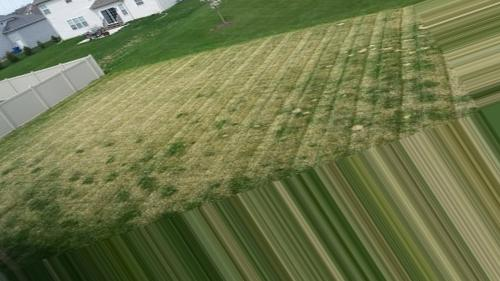patch: (257, 105, 369, 157), (262, 48, 357, 89), (113, 71, 226, 105), (72, 113, 138, 152), (174, 118, 245, 147), (97, 175, 169, 199), (353, 17, 401, 44), (230, 61, 259, 90), (37, 151, 67, 178), (78, 92, 95, 101)
